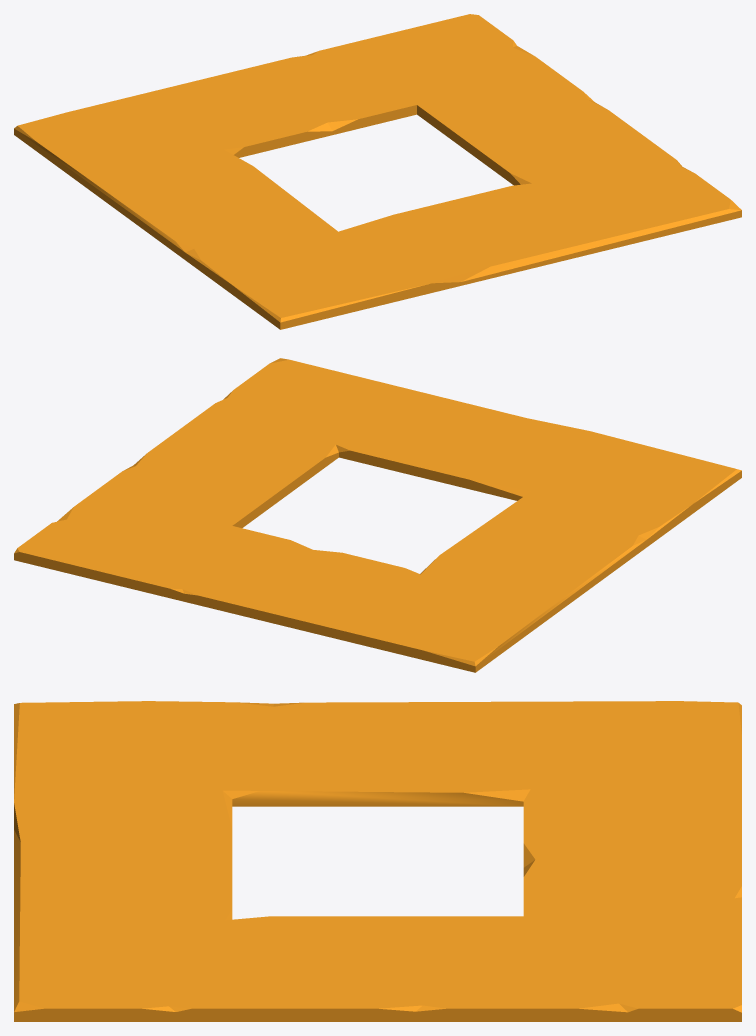
File: SM_Buildings_FloorHole_5x5_01P.fbx
3 views of the same model, one above another, from view 1: azimuth 30°, elevation 25°; view 2: azimuth 150°, elevation 25°; view 3: azimuth 270°, elevation 25° (orthographic). The views are drawn at different scales.
Parts seen in each view (by area): view 1: SM_Buildings_FloorHole_5x5_01P; view 2: SM_Buildings_FloorHole_5x5_01P; view 3: SM_Buildings_FloorHole_5x5_01P.
Boxes of the visible parts, <box> form: SM_Buildings_FloorHole_5x5_01P: <box>14,14,741,329</box>; SM_Buildings_FloorHole_5x5_01P: <box>14,358,741,672</box>; SM_Buildings_FloorHole_5x5_01P: <box>14,701,741,1021</box>.
Bounding box in the file's own units: 500 × 10 × 500.
